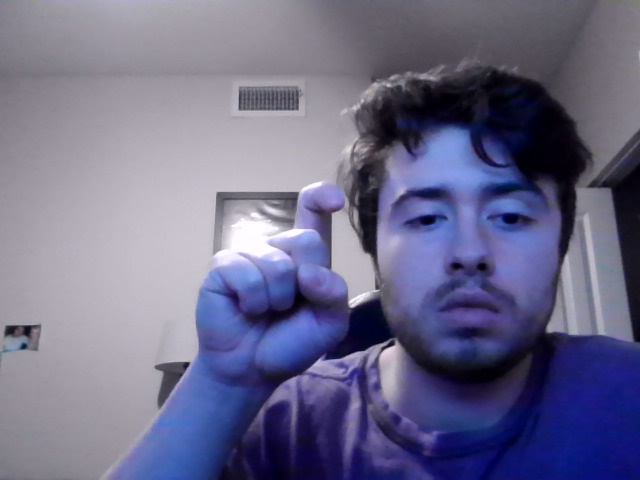x: (195, 181, 350, 422)
